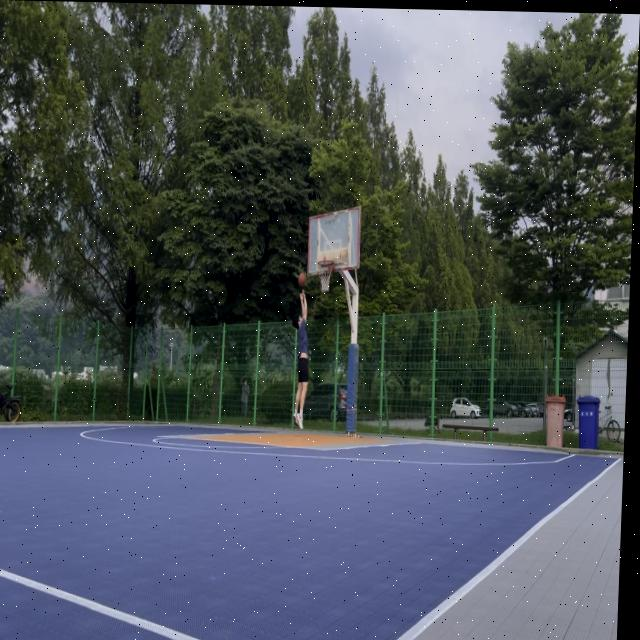basketball: (298, 272, 307, 288)
hoop: (316, 260, 334, 294)
